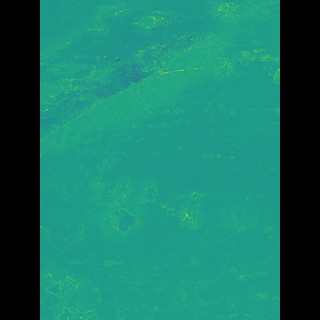Loch: (71, 0, 247, 143), (118, 181, 194, 233), (213, 194, 235, 234)
